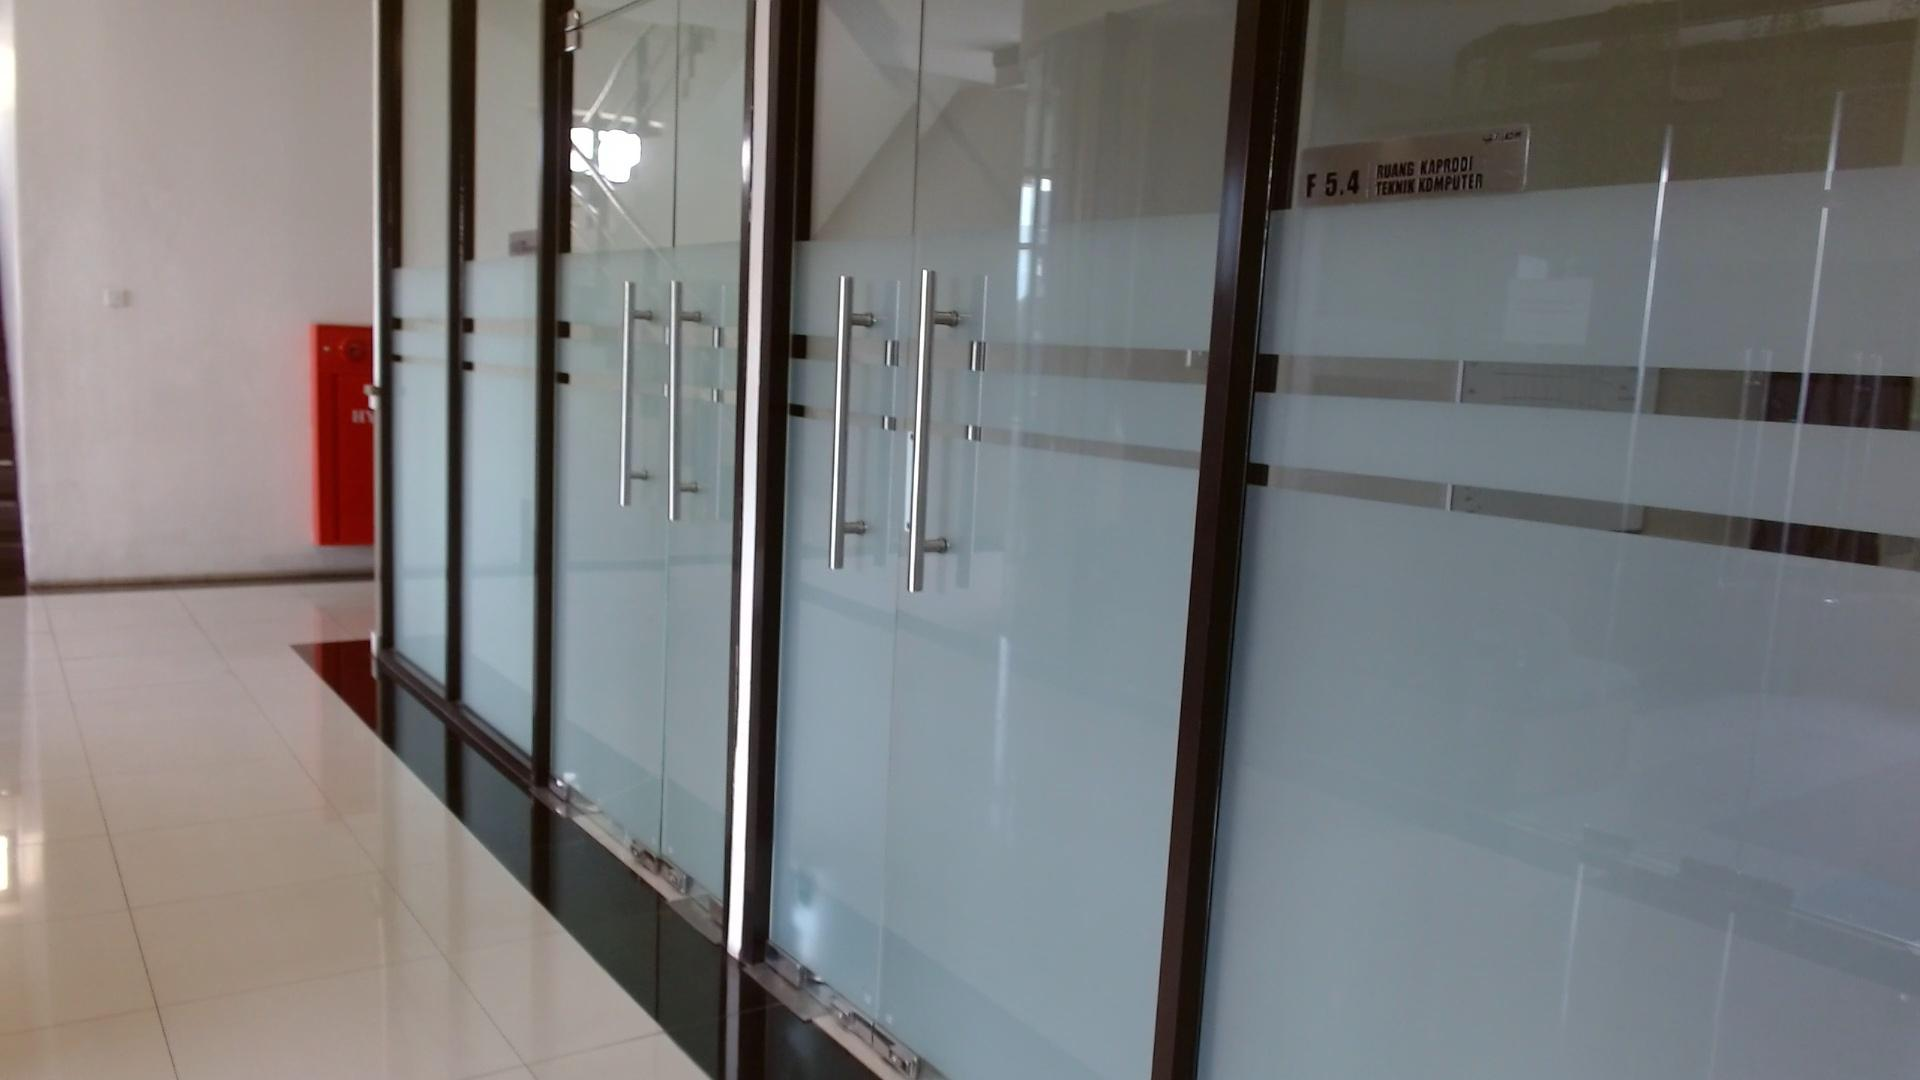plate: (1295, 121, 1528, 207)
